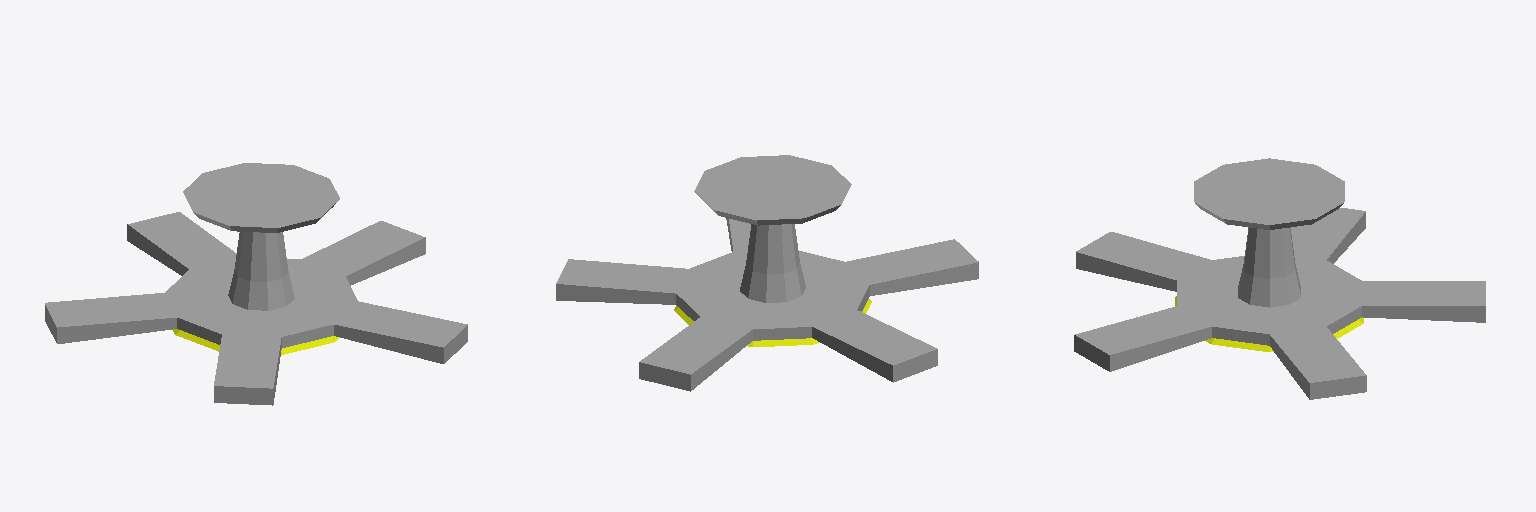
The picture shows the model from 3 angles: view 1: azimuth 30°, elevation 25°; view 2: azimuth 150°, elevation 25°; view 3: azimuth 270°, elevation 25°; orthographic projection.
Visible parts, largest first — view 1: pCylinder1; view 2: pCylinder1; view 3: pCylinder1.
Part boxes in pixels (bbox=[...]): pCylinder1: bbox=[45, 163, 467, 405]; pCylinder1: bbox=[556, 155, 978, 391]; pCylinder1: bbox=[1074, 158, 1485, 399].
Size of the model in its own units: 4.38 by 1.46 by 4.23.
1 materials, 1 textured.